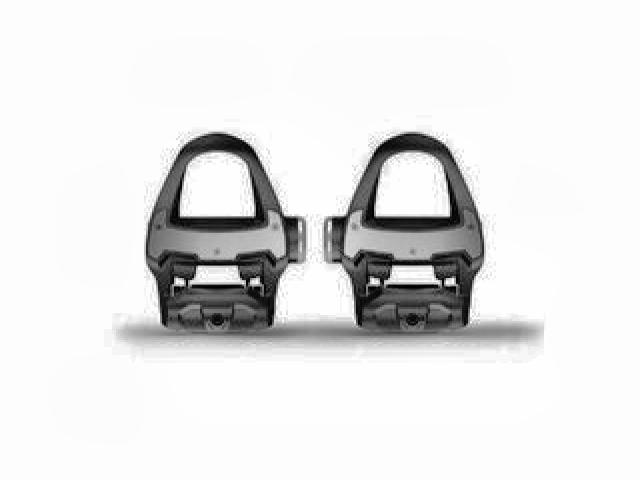pedal: (322, 130, 490, 338), (143, 130, 308, 339)
